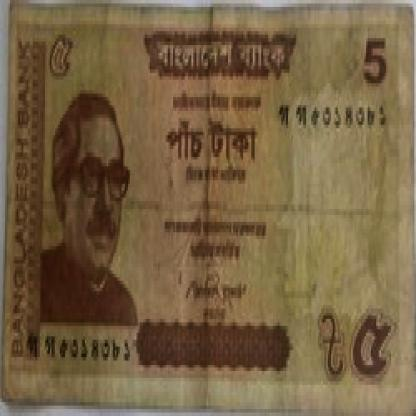Five Taka: (160, 114, 264, 170), (346, 302, 393, 395), (351, 21, 394, 94), (45, 17, 76, 87)
